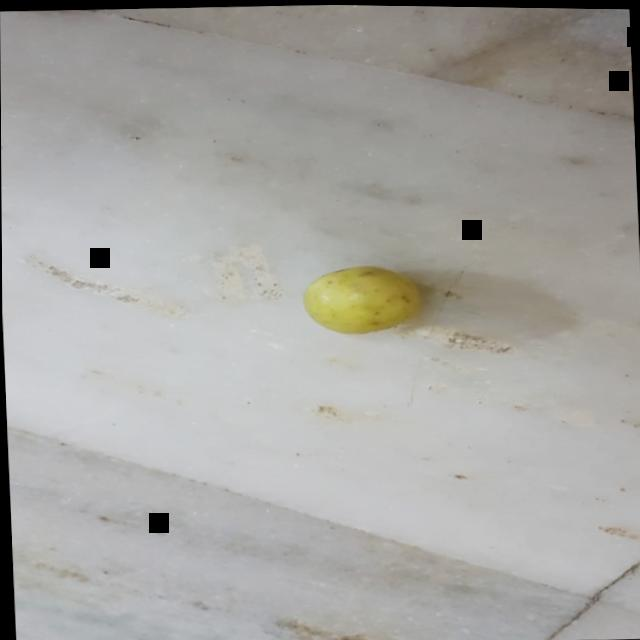lemon: (297, 251, 445, 343)
